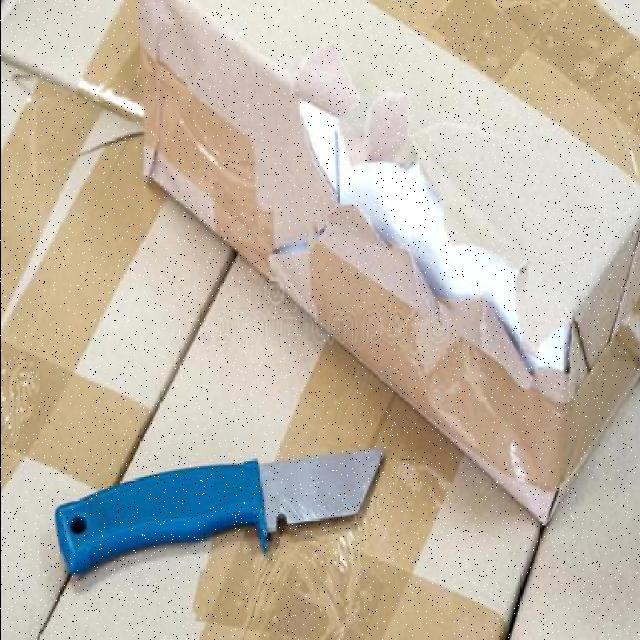defect: (140, 1, 638, 538)
